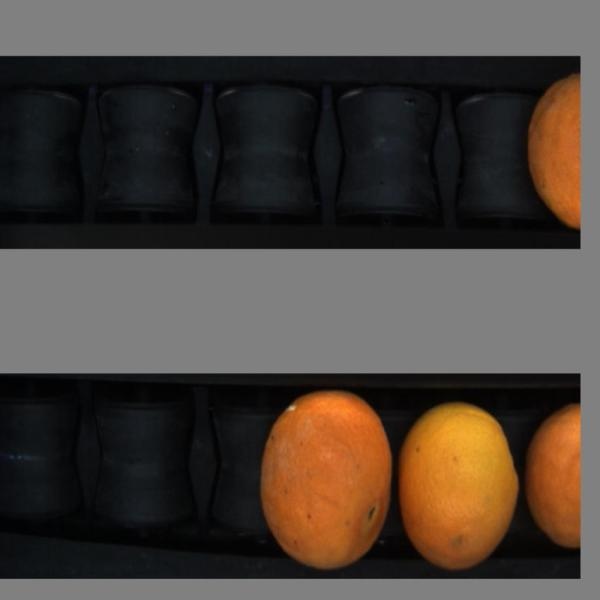Otros defectos: (256, 389, 396, 568), (401, 393, 524, 568), (517, 68, 583, 246), (524, 398, 580, 563)
